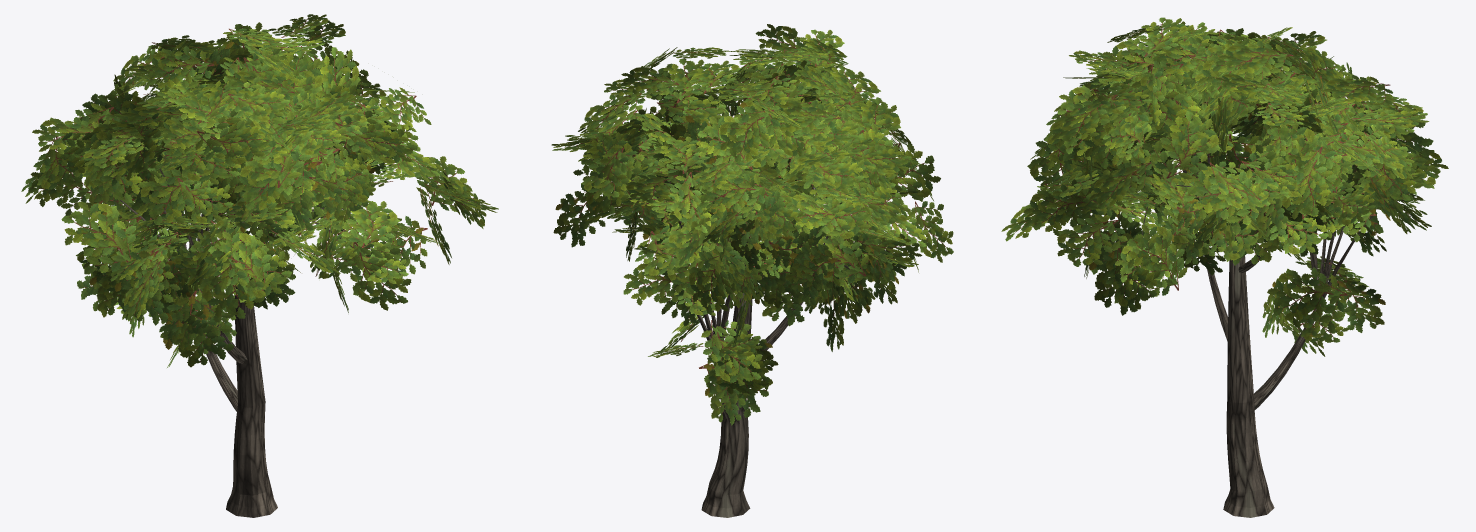
File: tr_oak_b.glb
The picture shows the model from 3 angles, left to right: view 1: azimuth 30°, elevation 25°; view 2: azimuth 150°, elevation 25°; view 3: azimuth 270°, elevation 25°; orthographic projection. The views are drawn at different scales.
Visible parts, largest first — view 1: tr_oak_b; view 2: tr_oak_b; view 3: tr_oak_b.
Boxes of the visible parts, x1,y1,x2,y2 form: tr_oak_b: [21, 14, 498, 517]; tr_oak_b: [551, 24, 953, 517]; tr_oak_b: [1001, 17, 1448, 517].
Bounding box in the file's own units: 8.38 × 9.6 × 8.64.
Materials: 2 (2 with a texture image).
